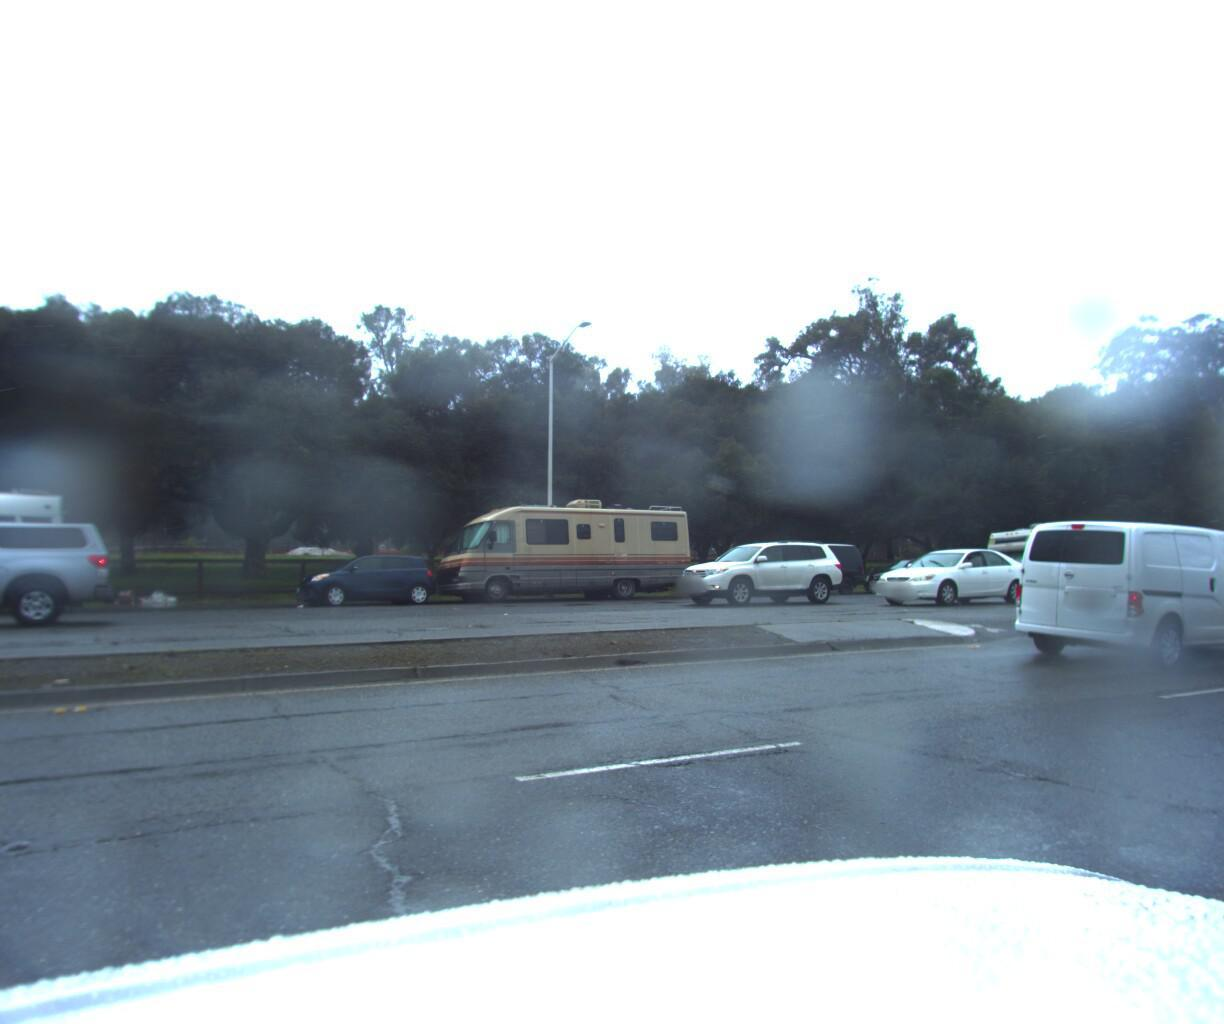bus: (0, 451, 78, 643)
car: (998, 513, 1224, 661), (0, 504, 121, 638), (672, 536, 856, 605), (865, 540, 1040, 605), (287, 551, 442, 609), (721, 538, 868, 597), (852, 554, 951, 593), (1217, 541, 1224, 590)
other_vehicle: (421, 487, 700, 610), (975, 518, 1113, 590)
